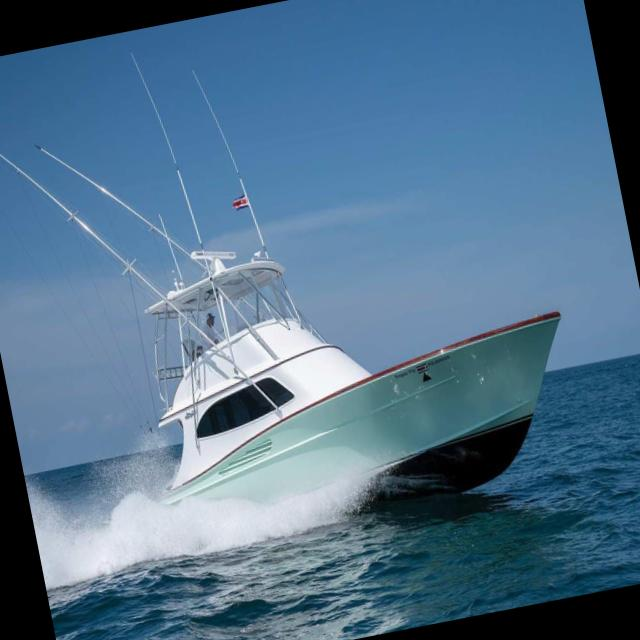boat: (0, 8, 606, 621)
